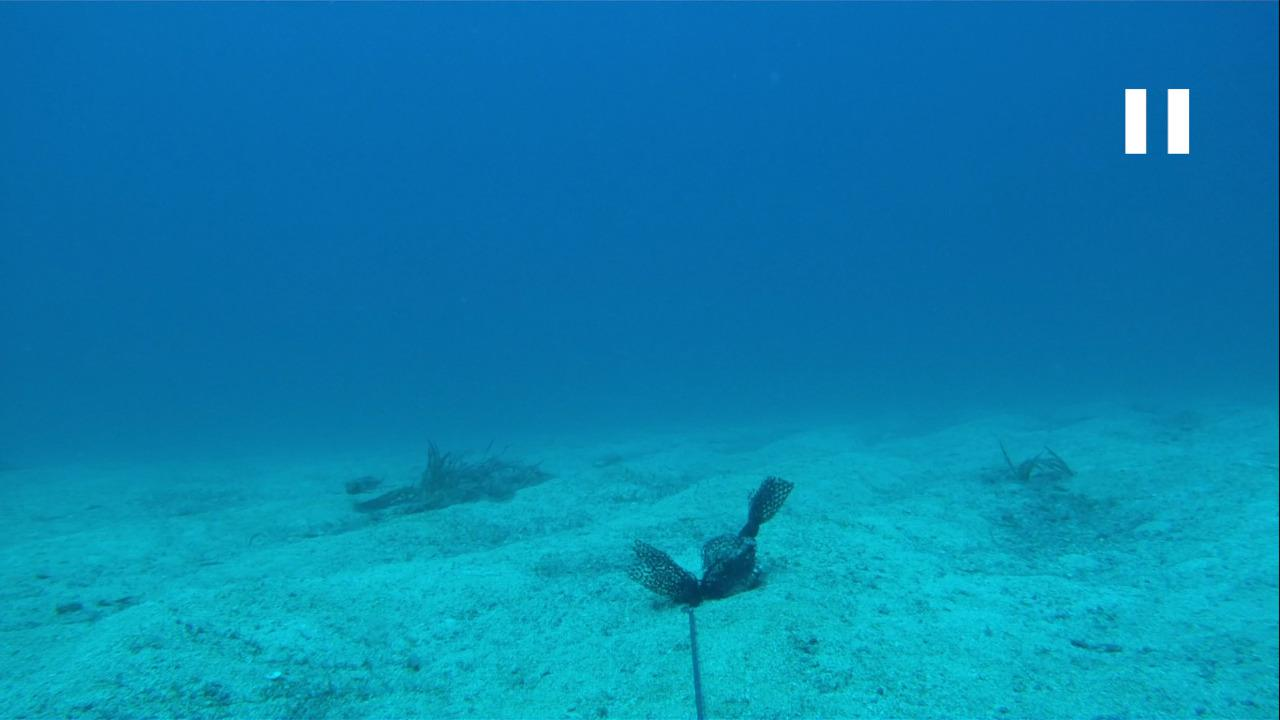dactylopterus: (335, 467, 391, 497)
